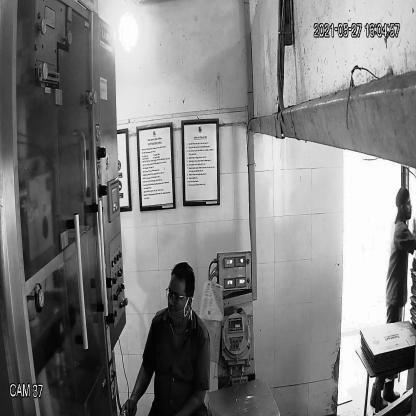goggles: (163, 285, 196, 307)
